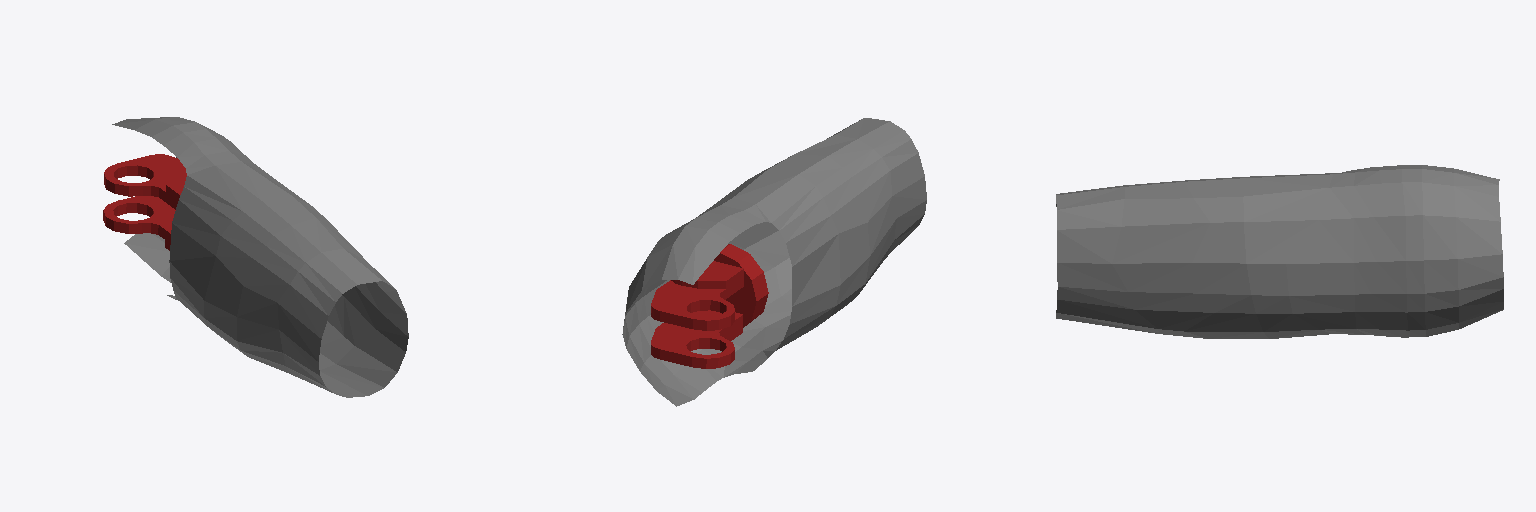
The model's file is L_SAA.obj.
3 views of the same model, side by side, from view 1: azimuth 30°, elevation 25°; view 2: azimuth 150°, elevation 25°; view 3: azimuth 270°, elevation 25° (orthographic).
Visible parts, largest first — view 1: L_SAA.2_ShapeIndexedFaceS.076, L_SAA.1_ShapeIndexedFaceS.075; view 2: L_SAA.2_ShapeIndexedFaceS.076, L_SAA.1_ShapeIndexedFaceS.075; view 3: L_SAA.2_ShapeIndexedFaceS.076.
Boxes of the visible parts, box(x1,y1,x2,y2) form: L_SAA.2_ShapeIndexedFaceS.076: box(112, 117, 408, 397); L_SAA.1_ShapeIndexedFaceS.075: box(103, 154, 186, 250); L_SAA.2_ShapeIndexedFaceS.076: box(622, 118, 926, 406); L_SAA.1_ShapeIndexedFaceS.075: box(651, 244, 768, 368); L_SAA.2_ShapeIndexedFaceS.076: box(1056, 165, 1503, 338).
Bounding box in the file's own units: 3.79 × 4.73 × 11.82.